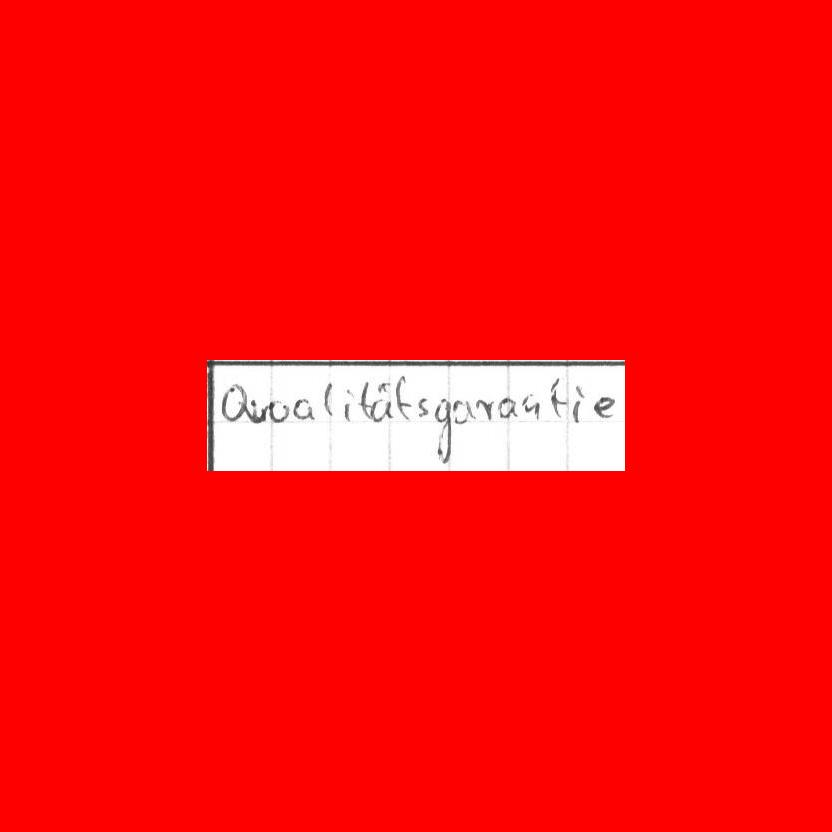Char: (435, 395, 453, 463), (368, 379, 390, 424), (222, 382, 245, 424), (392, 374, 412, 419), (548, 377, 565, 416), (322, 380, 338, 421), (292, 396, 315, 423), (571, 385, 587, 423), (263, 399, 288, 423), (593, 395, 616, 419), (357, 380, 371, 419), (245, 392, 261, 424), (497, 396, 518, 420), (474, 398, 494, 422), (521, 393, 541, 416), (341, 388, 355, 420), (453, 400, 471, 424), (415, 394, 431, 419)
